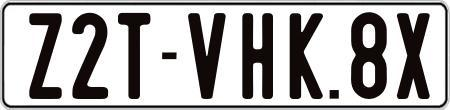2: (72, 12, 112, 104)
8: (350, 10, 392, 98)
H: (240, 10, 275, 102)
K: (288, 10, 323, 99)
T: (117, 12, 155, 104)
V: (185, 10, 227, 101)
X: (396, 13, 434, 101)
Z: (29, 10, 63, 98)
